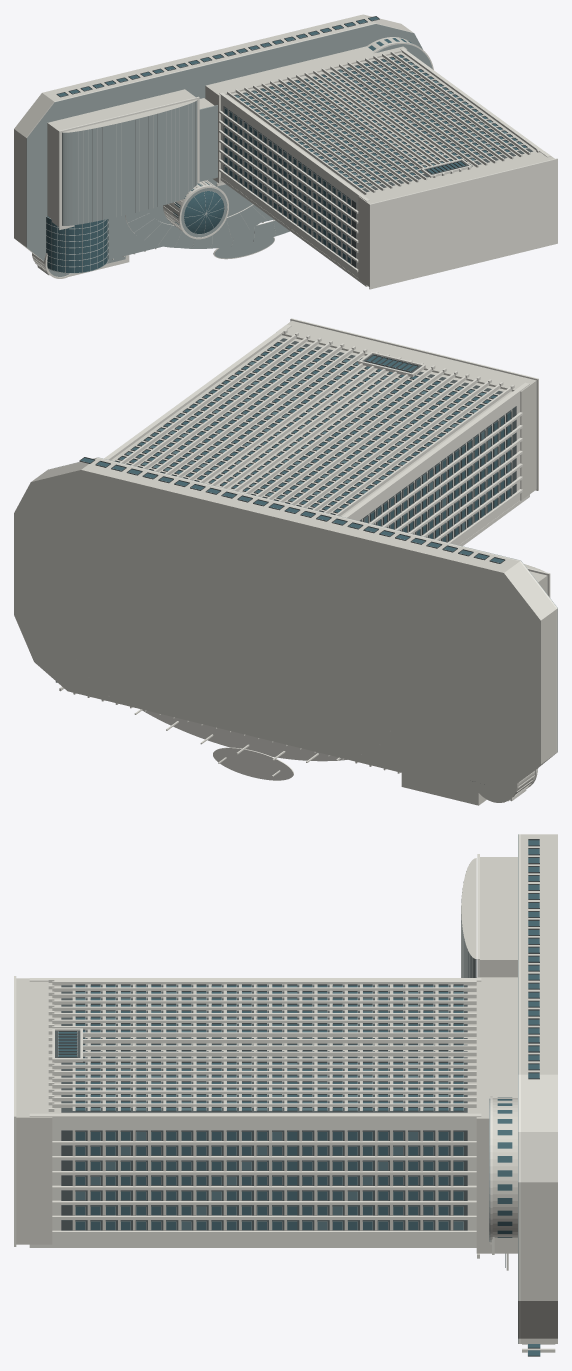
File: grand-nikko-tokyo-daiba.glb
3 views of the same model, one above another, from view 1: azimuth 30°, elevation 25°; view 2: azimuth 150°, elevation 25°; view 3: azimuth 270°, elevation 25° (orthographic). The views are drawn at different scales.
Parts seen in each view (by area): view 1: Tower | Light vertical piers, Tower | Warm off white facade, West_Hall | Standing seam roof, Podium | Standing seam roof, Tower | Window reveals and dark metal, Tower | Recessed blue gray glass, Podium | Warm off white facade, Entrance_Canopies | Standing seam roof, West_Hall | Warm off white facade, Glass_Entrance | Recessed blue gray glass, West_Hall | Silver window mullions, Tower | Alternate window reflection (+12 smaller); view 2: Podium | Warm off white facade, Tower | Light vertical piers, Tower | Warm off white facade, Tower | Window reveals and dark metal, Tower | Recessed blue gray glass, Glass_Entrance | Warm off white facade, Tower | Alternate window reflection, Entrance_Pavilion | Warm off white facade, Entrance_Canopies | Light vertical piers, Tower | Silver window mullions, Oval_Canopy | Light vertical piers, Podium | Light vertical piers (+4 smaller); view 3: Tower | Light vertical piers, Tower | Warm off white facade, Tower | Window reveals and dark metal, Tower | Recessed blue gray glass, Podium | Warm off white facade, West_Hall | Warm off white facade, Tower | Silver window mullions, Tower | Alternate window reflection, Podium | Recessed blue gray glass, Podium | Light vertical piers, Podium | Window reveals and dark metal, Podium | Standing seam roof.
Part boxes in pixels (x1,y1,x2,y2): Tower | Light vertical piers: (216,48,557,289); Tower | Warm off white facade: (205,46,554,286); West_Hall | Standing seam roof: (62,100,197,225); Podium | Standing seam roof: (26,24,432,261); Tower | Window reveals and dark metal: (223,54,532,267); Tower | Recessed blue gray glass: (224,55,526,263); Podium | Warm off white facade: (14,14,412,258); Entrance_Canopies | Standing seam roof: (125,204,290,248); West_Hall | Warm off white facade: (47,89,197,226); Glass_Entrance | Recessed blue gray glass: (46,216,108,272); West_Hall | Silver window mullions: (78,101,195,224); Tower | Alternate window reflection: (224,62,521,243); Podium | Warm off white facade: (14,458,556,788); Tower | Light vertical piers: (104,318,538,546); Tower | Warm off white facade: (57,321,536,664); Tower | Window reveals and dark metal: (115,338,516,542); Tower | Recessed blue gray glass: (115,342,510,541); Glass_Entrance | Warm off white facade: (438,708,515,789); Tower | Alternate window reflection: (126,347,510,530); Entrance_Pavilion | Warm off white facade: (401,745,486,805); Entrance_Canopies | Light vertical piers: (108,695,390,762); Tower | Silver window mullions: (118,341,505,540); Oval_Canopy | Light vertical piers: (213,747,293,780); Podium | Light vertical piers: (47,457,557,801); Tower | Light vertical piers: (14,976,481,1258); Tower | Warm off white facade: (16,977,517,1253); Tower | Window reveals and dark metal: (55,984,467,1230); Tower | Recessed blue gray glass: (58,985,463,1229); Podium | Warm off white facade: (492,834,557,1343); West_Hall | Warm off white facade: (461,857,517,977); Tower | Silver window mullions: (58,984,463,1229); Tower | Alternate window reflection: (75,985,463,1229); Podium | Recessed blue gray glass: (497,840,540,1355); Podium | Light vertical piers: (490,834,555,1352); Podium | Window reveals and dark metal: (528,839,540,1356); Podium | Standing seam roof: (489,834,518,1343).
Bounding box in the file's own units: 157 × 78.09 × 120.
